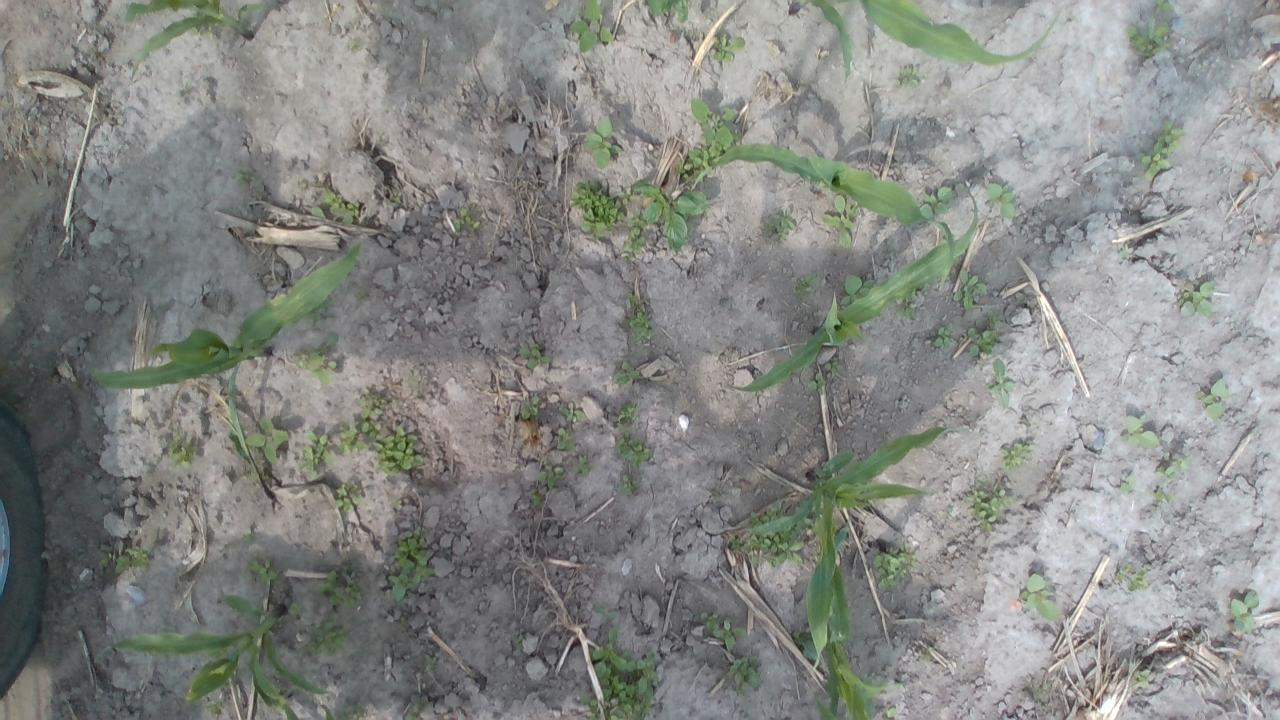Maize: (741, 428, 957, 680), (734, 179, 980, 393), (91, 244, 362, 388), (702, 144, 958, 264), (113, 592, 329, 720), (862, 0, 1064, 62), (120, 0, 266, 56), (228, 370, 276, 504), (826, 623, 886, 720), (804, 0, 852, 79), (277, 705, 300, 720), (321, 703, 334, 718)
Weeds: (592, 624, 660, 720), (634, 180, 706, 255), (384, 532, 435, 600), (570, 179, 622, 234), (688, 96, 742, 144), (246, 415, 295, 466), (1144, 118, 1180, 184), (294, 332, 336, 388), (572, 0, 616, 51), (822, 193, 861, 247), (868, 543, 916, 586), (372, 432, 418, 474), (1018, 572, 1058, 620), (1126, 22, 1172, 58), (320, 570, 366, 605), (587, 115, 617, 168), (761, 532, 804, 568), (704, 612, 744, 650), (626, 293, 659, 339), (616, 432, 654, 468), (1180, 282, 1216, 320), (300, 430, 333, 470), (990, 359, 1015, 411), (1124, 412, 1160, 448), (762, 205, 798, 241), (531, 464, 564, 503), (731, 654, 763, 694), (1233, 588, 1260, 632), (309, 628, 346, 660), (984, 182, 1016, 219), (1199, 378, 1225, 422), (712, 31, 748, 62), (974, 487, 1004, 524), (918, 185, 951, 218), (1116, 560, 1150, 592), (644, 0, 690, 23), (684, 143, 720, 172), (955, 276, 984, 310), (115, 548, 152, 574), (520, 342, 550, 372), (840, 275, 870, 305), (168, 437, 196, 468), (313, 207, 357, 226), (1002, 442, 1034, 468), (359, 396, 382, 432), (966, 328, 994, 357), (404, 691, 430, 720), (627, 216, 646, 255), (252, 559, 278, 584), (340, 419, 360, 450), (930, 326, 954, 350), (1154, 458, 1182, 478), (522, 394, 541, 422), (456, 207, 478, 231), (614, 366, 640, 386), (896, 63, 915, 90), (564, 402, 586, 424), (336, 484, 356, 508), (343, 697, 363, 720), (620, 474, 638, 499), (900, 296, 916, 324), (1136, 668, 1157, 688), (238, 168, 257, 188), (575, 454, 590, 479), (794, 274, 814, 292), (556, 433, 575, 451), (618, 404, 637, 421), (749, 534, 764, 554), (826, 359, 846, 374), (810, 374, 826, 392), (328, 191, 343, 210), (1120, 475, 1134, 494), (321, 613, 338, 628), (344, 202, 362, 216), (424, 654, 438, 672), (750, 510, 780, 518), (96, 551, 108, 571), (1152, 488, 1169, 502), (346, 38, 362, 52), (1155, 0, 1172, 13), (354, 289, 370, 302), (732, 538, 745, 554), (287, 601, 302, 614), (984, 311, 996, 327), (247, 527, 261, 536), (516, 628, 526, 640), (391, 192, 402, 202)
